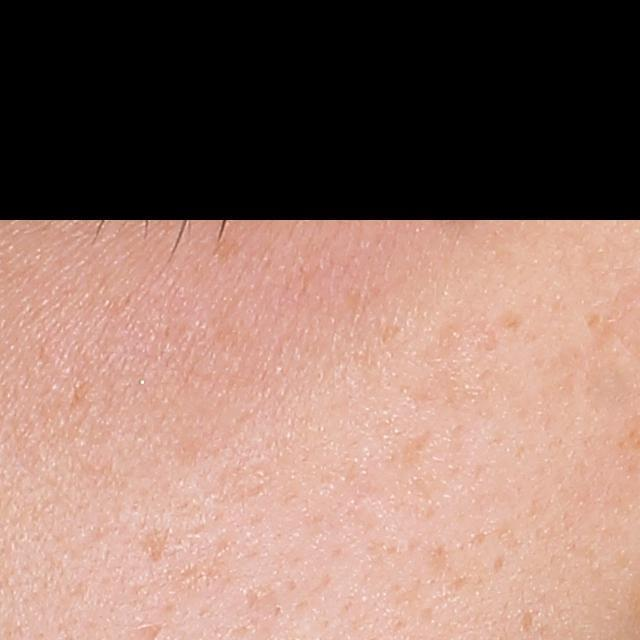melasma: (427, 184, 488, 240), (210, 234, 242, 265), (500, 308, 527, 333)
